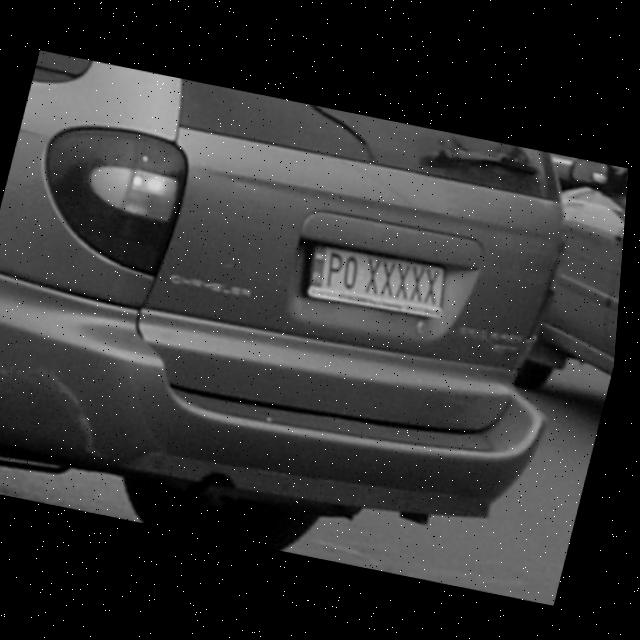license-plates: (308, 244, 447, 319)
